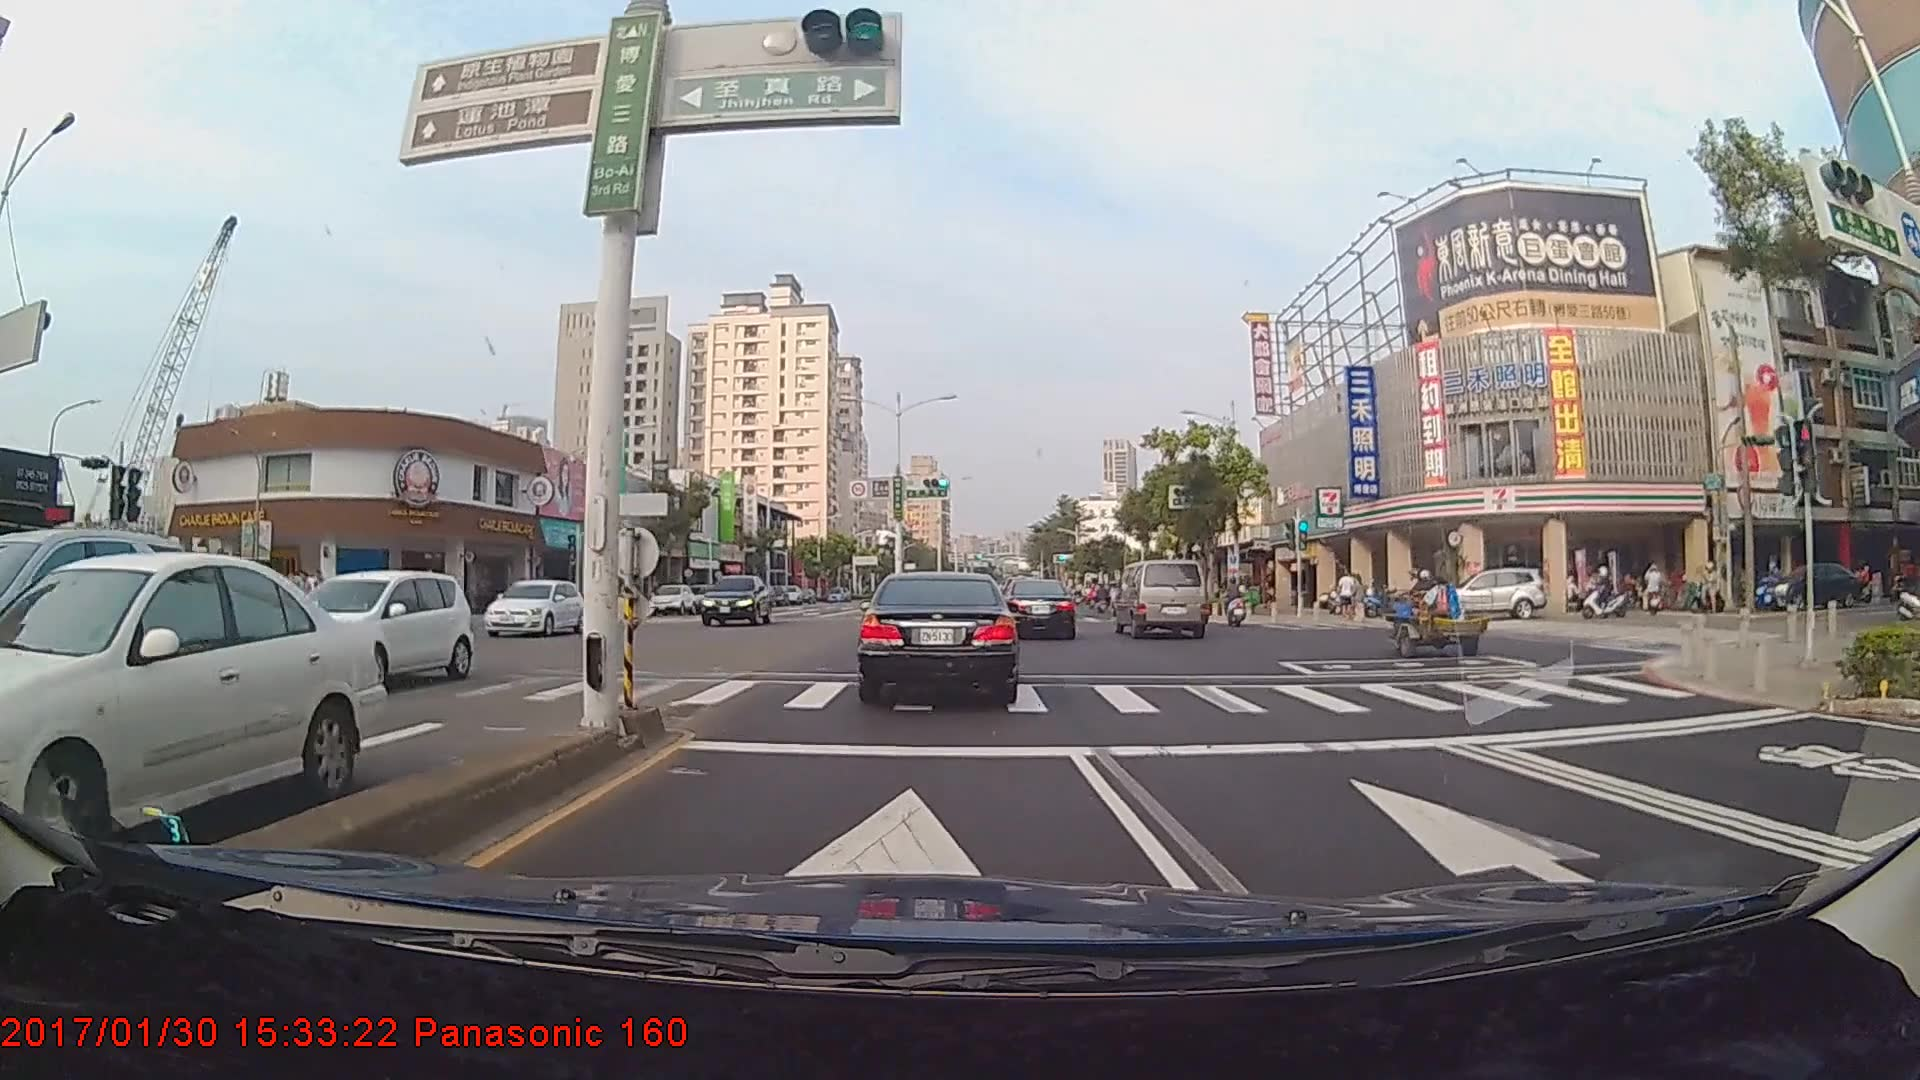pedestrian: (1338, 569, 1358, 620)
rider: (1577, 563, 1640, 627), (1216, 577, 1254, 630)
vehicle: (0, 550, 359, 856), (0, 528, 196, 752), (254, 565, 470, 693), (859, 566, 1018, 705), (1117, 558, 1208, 639), (1417, 571, 1546, 624), (477, 575, 582, 637), (1001, 577, 1077, 640), (700, 575, 772, 627), (651, 583, 696, 615)
